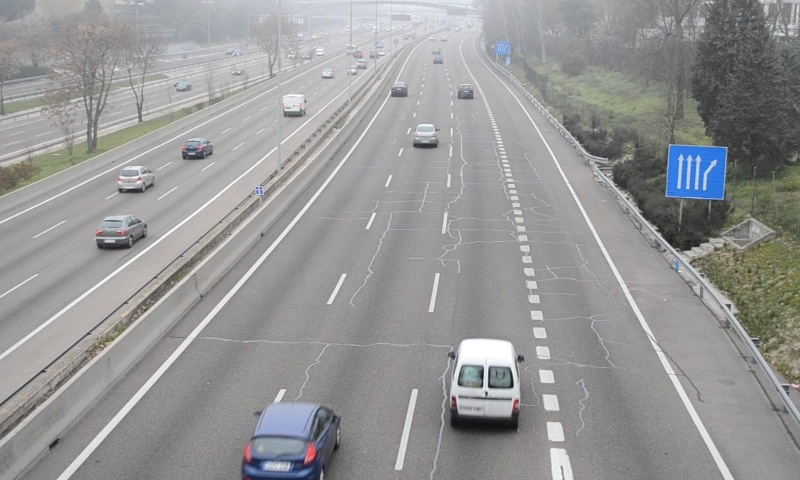car: (243, 404, 339, 480), (413, 123, 437, 147), (456, 82, 474, 100), (390, 81, 408, 98)
van: (449, 338, 519, 426)
